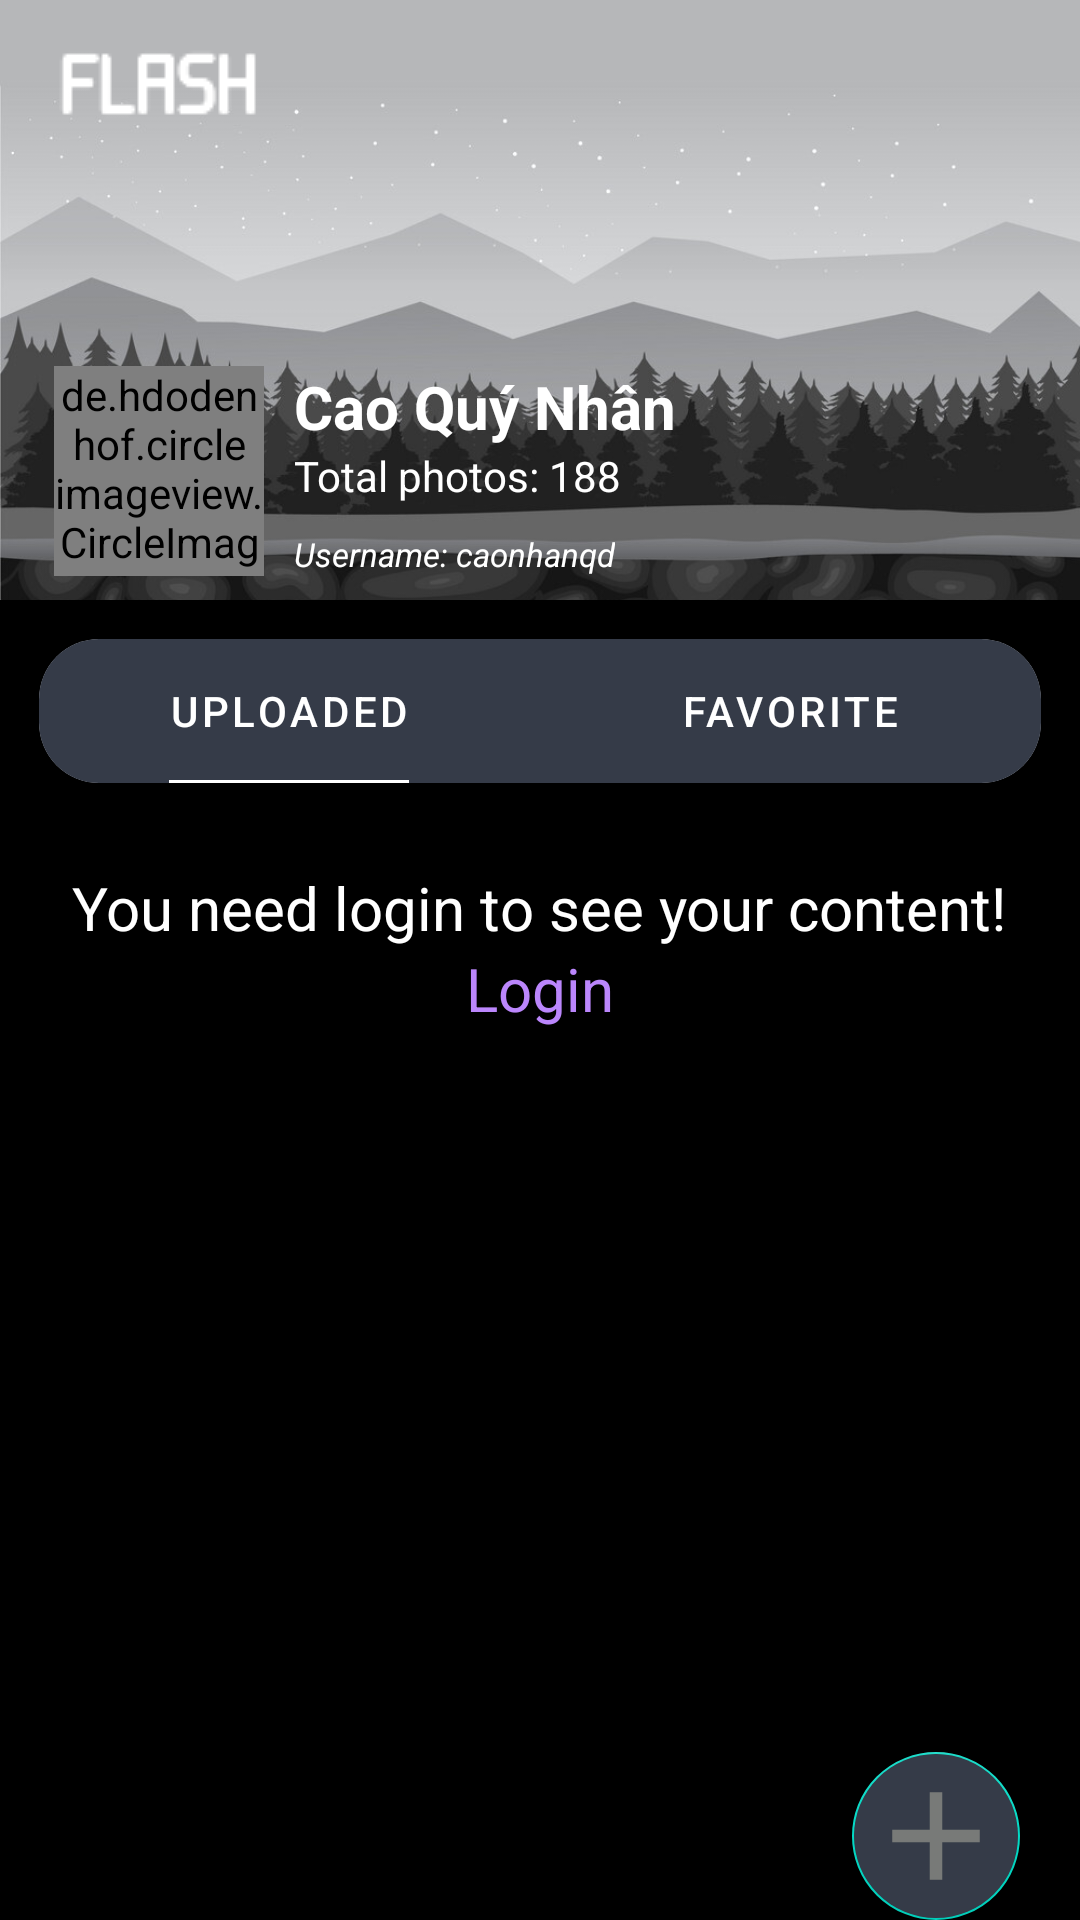

Locate icon controls on the screen. Image size 1080x1920, boxes as box=[x1, y1, x2, y2].
add: box=[852, 1752, 1020, 1920]
